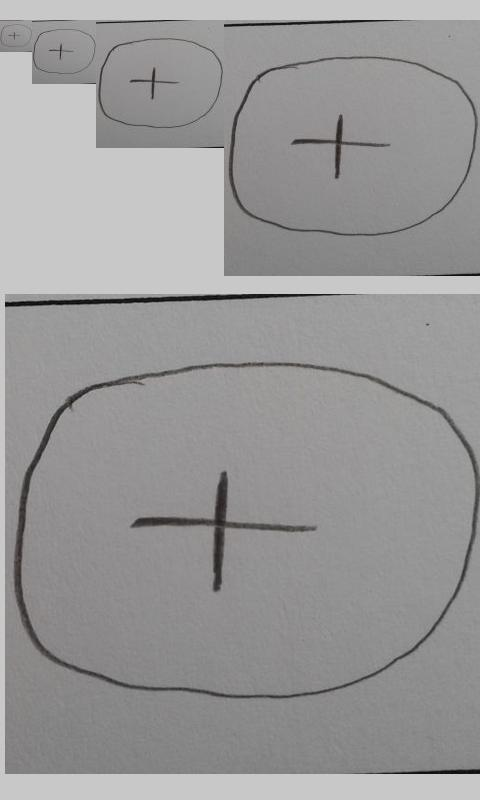button: (12, 358, 480, 701), (227, 54, 480, 238), (97, 36, 224, 129), (32, 28, 95, 75), (1, 23, 32, 48)
